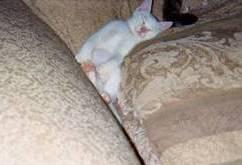cat: (76, 0, 175, 104)
